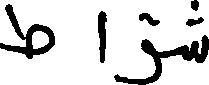ا: (95, 9, 106, 64)
ر: (116, 44, 162, 83)
ش: (183, 0, 207, 63)
ط: (0, 2, 55, 60)
